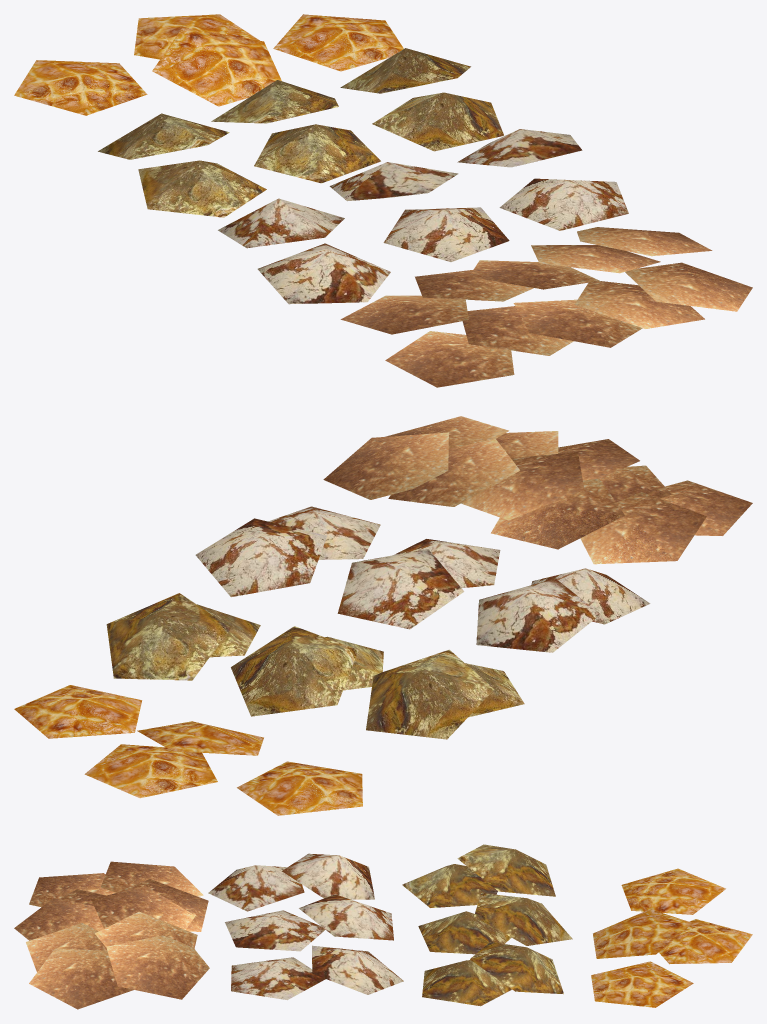
File: bread_booth02_LOD04.fbx
3 renders of one model, top to bottom at view 1: azimuth 30°, elevation 25°; view 2: azimuth 150°, elevation 25°; view 3: azimuth 270°, elevation 25°, orthographic. The views are drawn at different scales.
Visible parts, largest first — view 1: Mesh Object; view 2: Mesh Object; view 3: Mesh Object.
Boxes of the visible parts, x1,y1,x2,y2 form: Mesh Object: [14, 14, 752, 387]; Mesh Object: [14, 416, 752, 815]; Mesh Object: [14, 844, 752, 1009].
Bounding box in the file's own units: 0.8483 × 0.1184 × 1.84.
